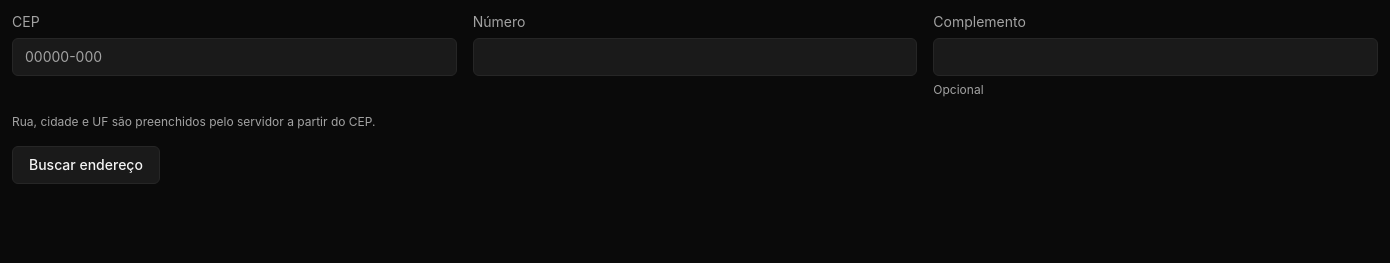
AddressPicker › sucesso devolve o endereço completo do backend e mostra o resumo
In the field labelled "CEP": (234, 57) x1=12 y1=38 x2=457 y2=76, type "20040020"
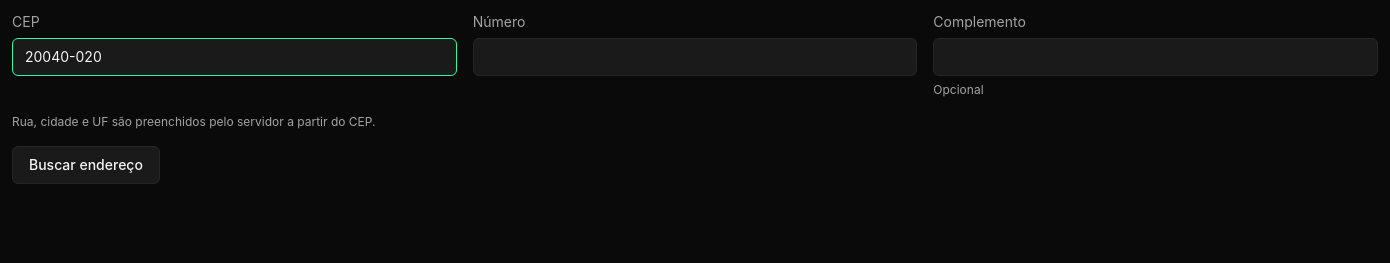
In the field labelled "Número": (695, 57) x1=473 y1=38 x2=917 y2=76, type "50"
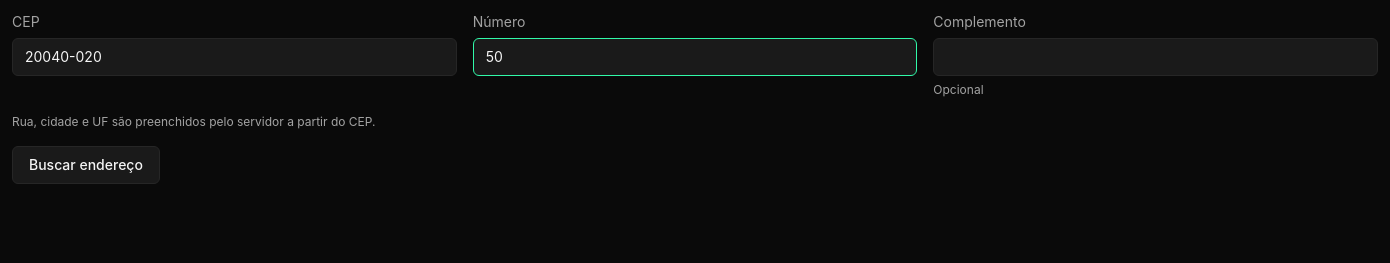
In the field labelled "Complemento": (1156, 57) x1=933 y1=38 x2=1378 y2=76, type "Sala 3"
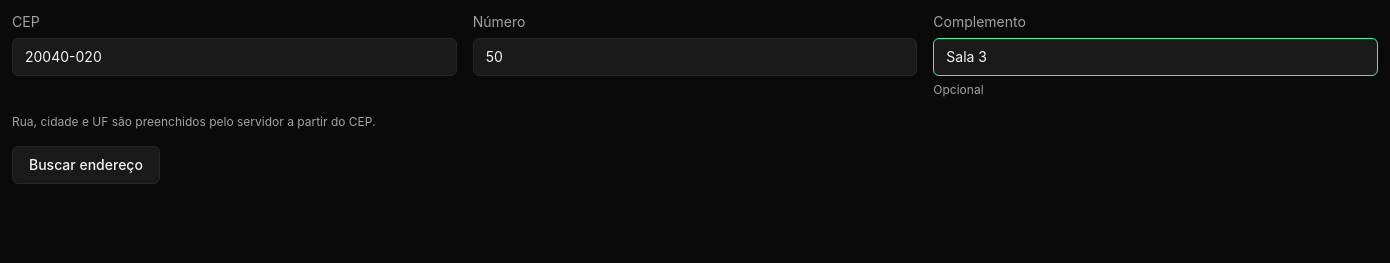
Click the button "Buscar endereço": (86, 165) x1=12 y1=146 x2=160 y2=184
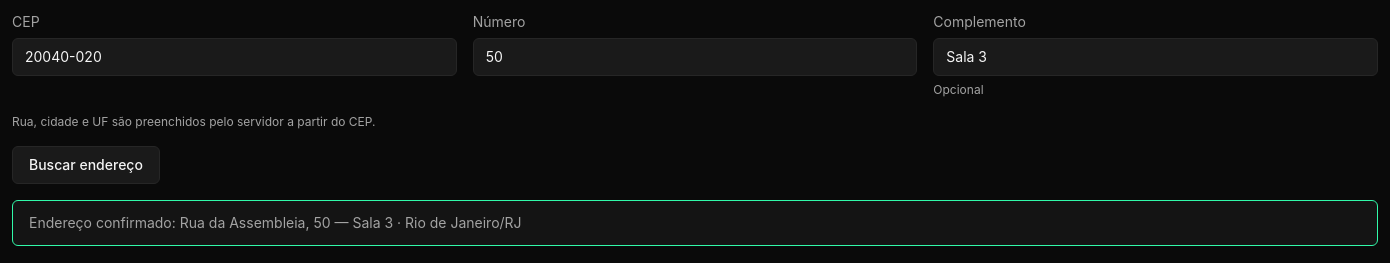
Result: the text "Endereço confirmado: Rua da Assembleia, 50 — Sala 3 · Rio de Janeiro/RJ" is shown at x1=29 y1=214 x2=522 y2=231
